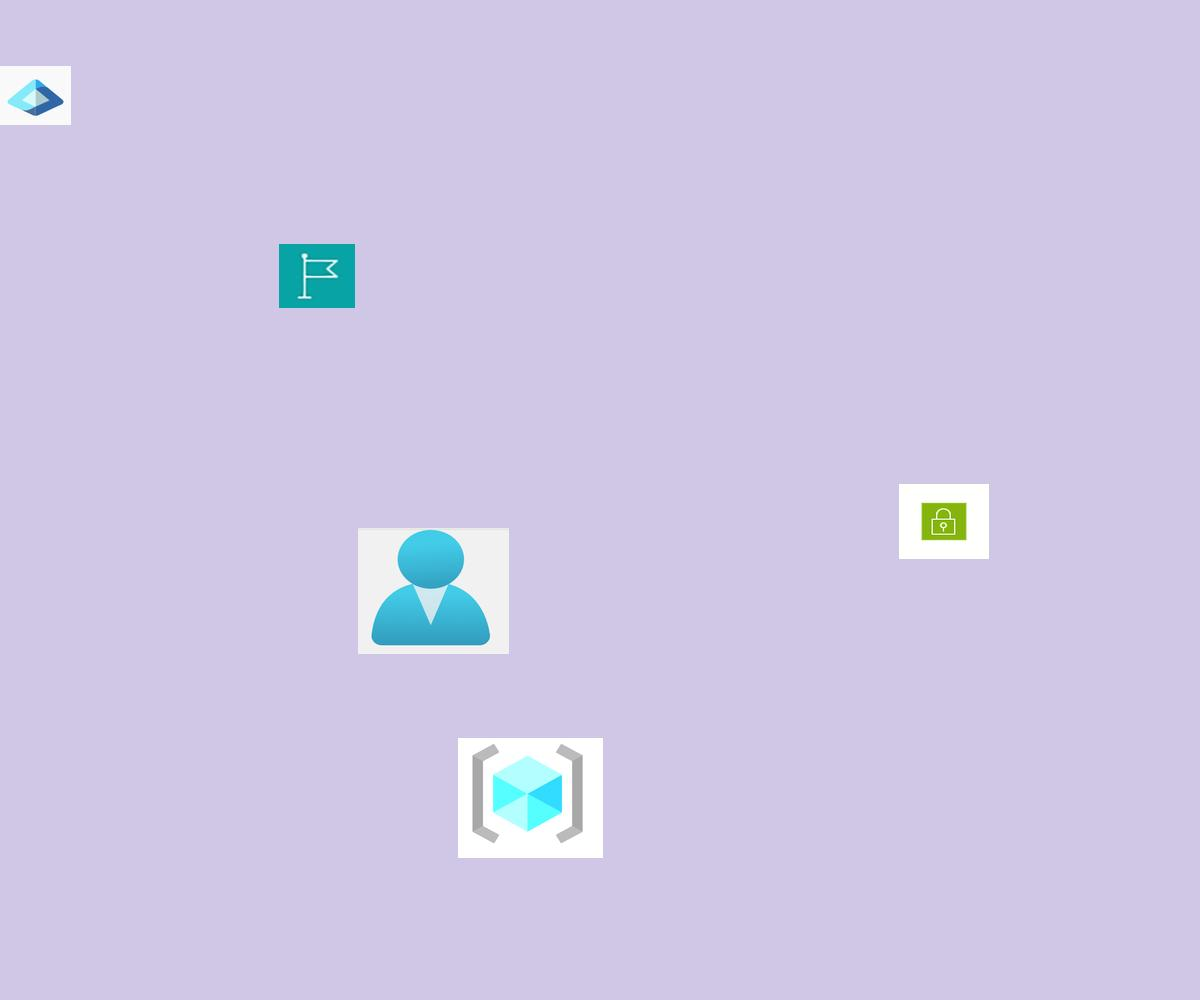AWS-Public-subnet: (899, 484, 989, 559)
AWS-Region: (279, 244, 355, 308)
Azure_microsoft_entra: (0, 66, 71, 125)
Azure_resource_group: (458, 738, 603, 858)
Azure_users: (358, 528, 509, 654)
